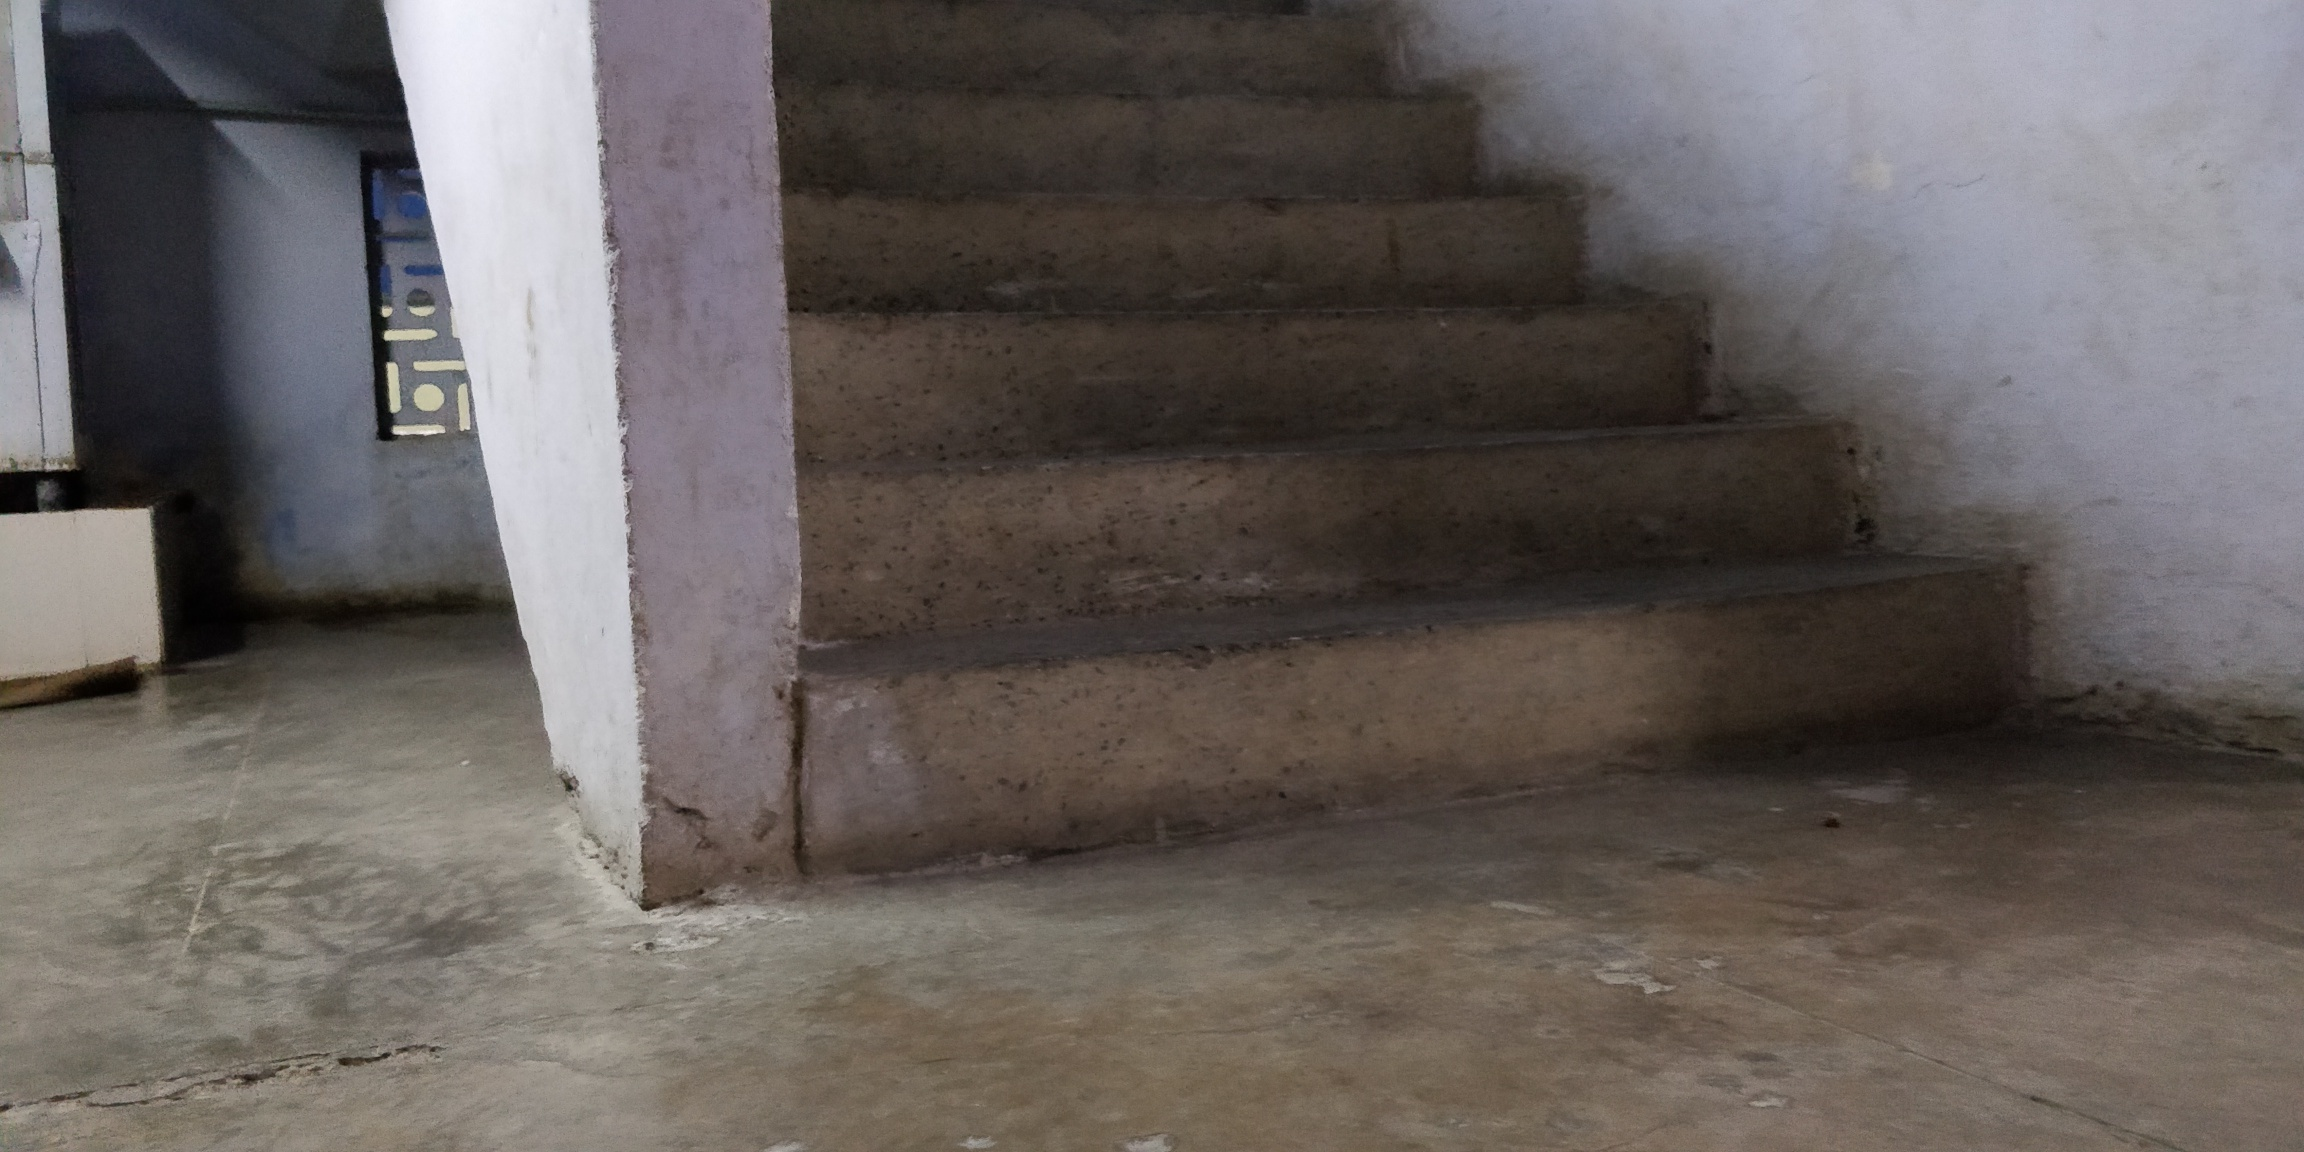stairs_up: (782, 1, 2040, 798)
